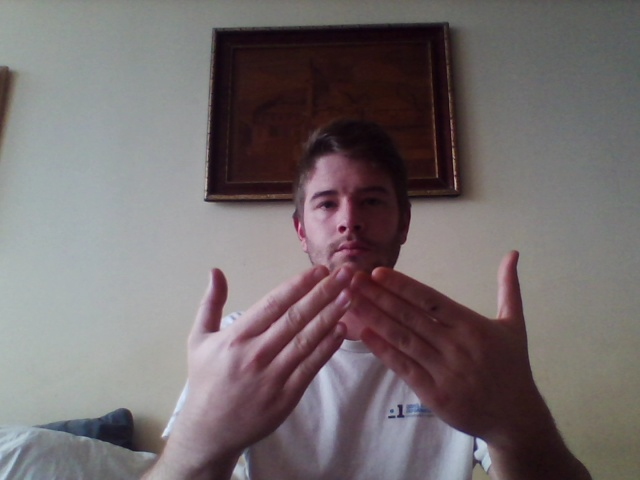hvala: (187, 247, 531, 446)
